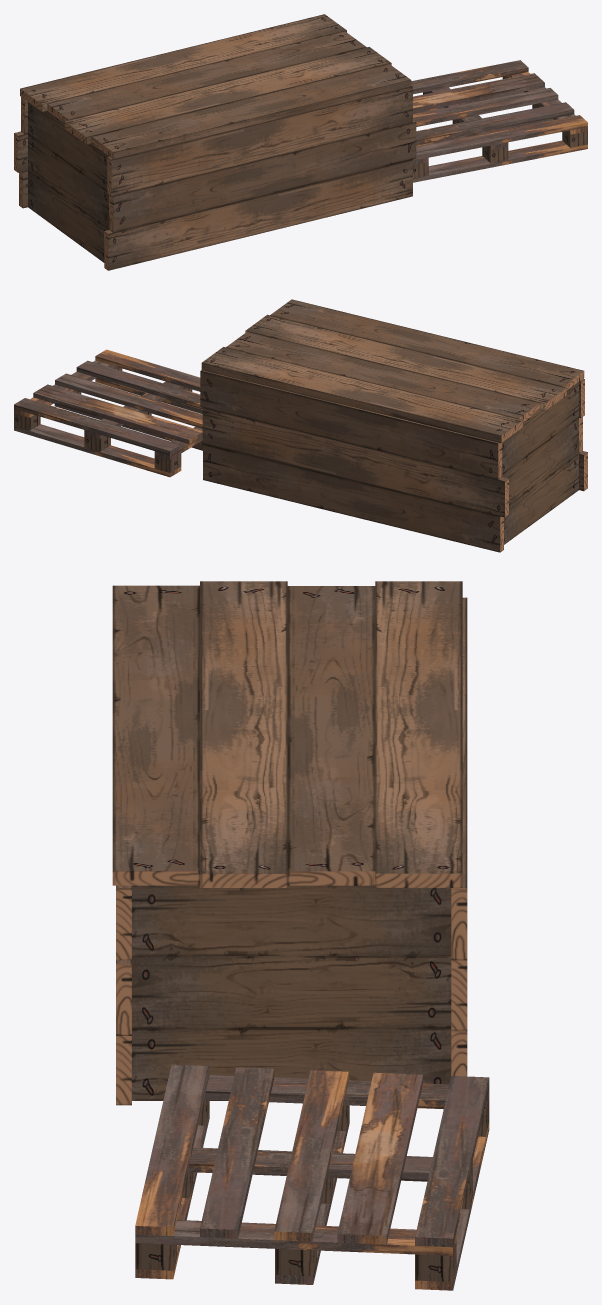
File: toolbox.gltf
The picture shows the model from 3 angles, top to bottom: view 1: azimuth 30°, elevation 25°; view 2: azimuth 150°, elevation 25°; view 3: azimuth 270°, elevation 25°; orthographic projection. The views are drawn at different scales.
Parts seen in each view (by area): view 1: compostBin01, compostBin_lid, pallet; view 2: compostBin01, compostBin_lid, pallet; view 3: compostBin_lid, compostBin01, pallet.
Part boxes in pixels (x1,y1,x2,y2): compostBin01: [14, 85, 416, 270]; compostBin_lid: [20, 14, 411, 159]; pallet: [411, 60, 587, 182]; compostBin01: [200, 370, 587, 552]; compostBin_lid: [201, 299, 584, 443]; pallet: [14, 349, 202, 477]; compostBin_lid: [112, 581, 462, 887]; compostBin01: [116, 597, 467, 1105]; pallet: [135, 1064, 489, 1290].
Size of what is drawn, in the model's own units: 3.58 by 0.8007 by 1.18.
Materials: 3 (2 with a texture image).
